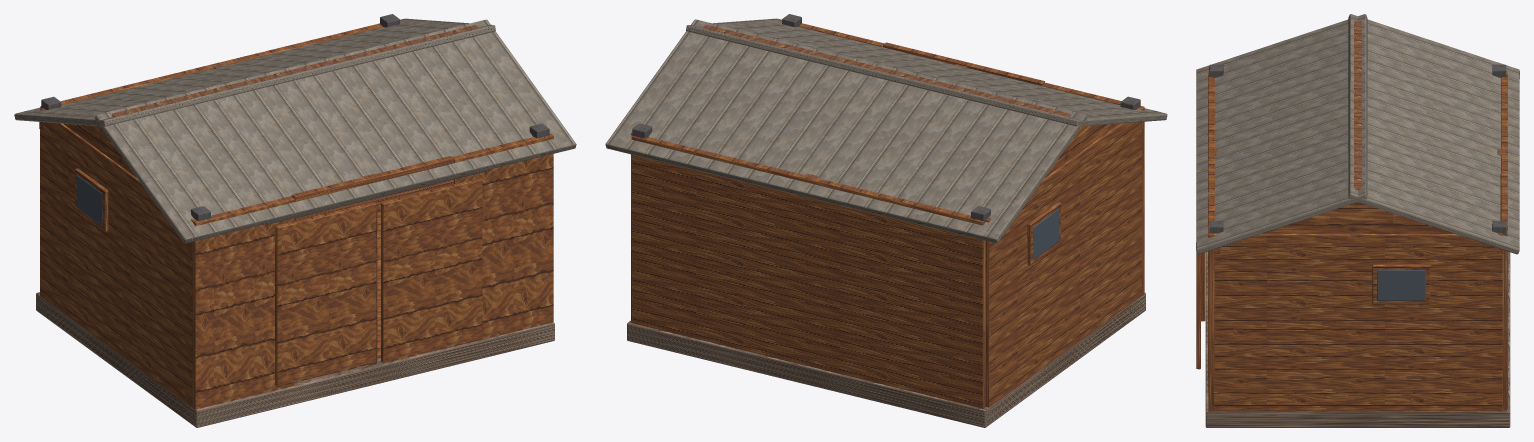
The model's file is warehouse_lod1.glb.
3 views of the same model, side by side, from view 1: azimuth 30°, elevation 25°; view 2: azimuth 150°, elevation 25°; view 3: azimuth 270°, elevation 25° (orthographic). The views are drawn at different scales.
Visible parts, largest first — view 1: stage3_shell_merged, stage4_complete_merged, stage1_foundation_merged, stage2_frame_merged; view 2: stage3_shell_merged, stage1_foundation_merged, stage4_complete_merged, stage2_frame_merged; view 3: stage3_shell_merged, stage1_foundation_merged, stage4_complete_merged, stage2_frame_merged.
Part boxes in pixels (left/top/right/bottom): stage3_shell_merged: left=14, top=18, right=576, bottom=409; stage4_complete_merged: left=41, top=14, right=549, bottom=386; stage1_foundation_merged: left=36, top=212, right=554, bottom=427; stage2_frame_merged: left=39, top=25, right=478, bottom=365; stage3_shell_merged: left=605, top=18, right=1167, bottom=408; stage1_foundation_merged: left=627, top=293, right=1145, bottom=427; stage4_complete_merged: left=632, top=14, right=1140, bottom=265; stage2_frame_merged: left=702, top=25, right=1142, bottom=241; stage3_shell_merged: left=1196, top=14, right=1519, bottom=411; stage1_foundation_merged: left=1205, top=251, right=1510, bottom=427; stage4_complete_merged: left=1196, top=64, right=1506, bottom=369; stage2_frame_merged: left=1213, top=21, right=1505, bottom=253.
Size of the model in its own units: 5.9 by 3.68 by 4.47.
7 materials, 6 textured.
